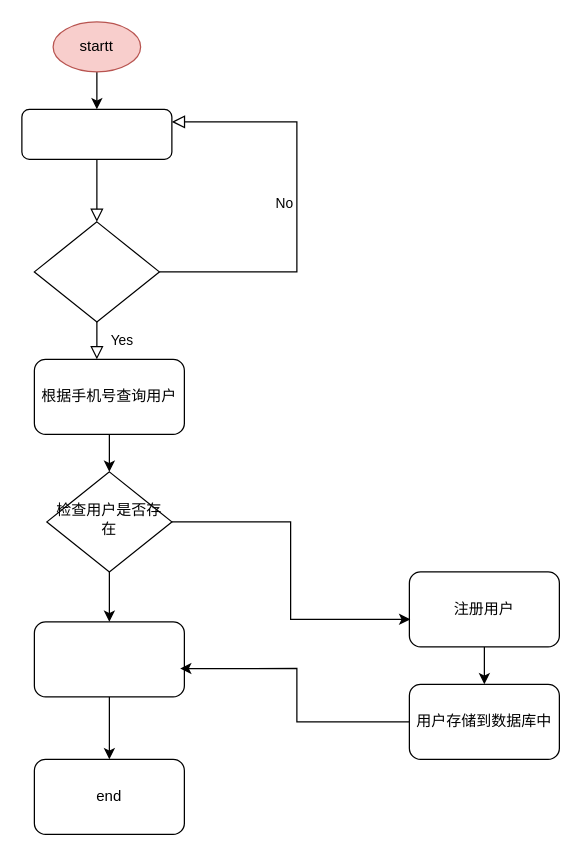
The diagram is 581 pixels wide and 856 high, and some of its shapes have lost their labels. The shapes that lost their labels are listed below. From the top down, each one's centre as x and y in pixels, then its label:
At (96,133): "提交手机号与与验证码".
At (96,271): "校验验证码".
At (108,659): "保存用户到session".
